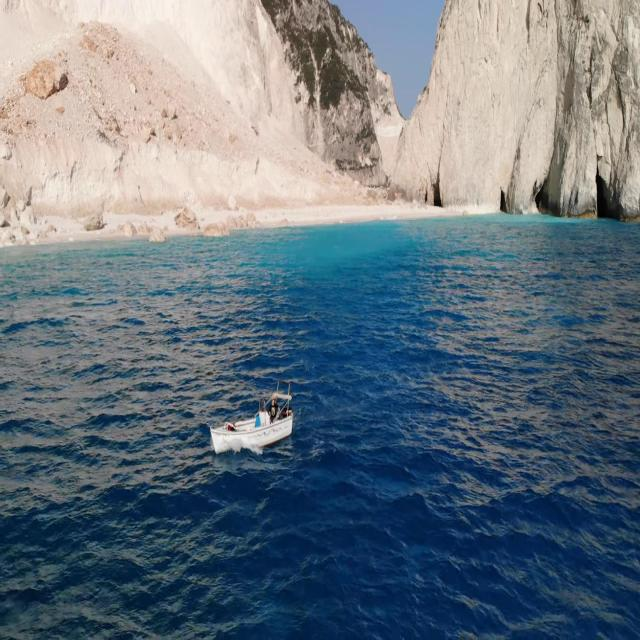boat: (220, 380, 298, 464)
